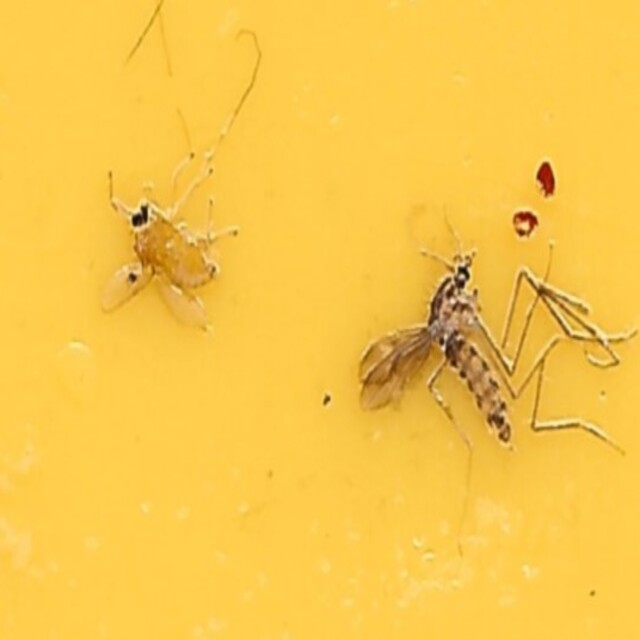Nematocera: (347, 246, 521, 456), (119, 184, 219, 307)
